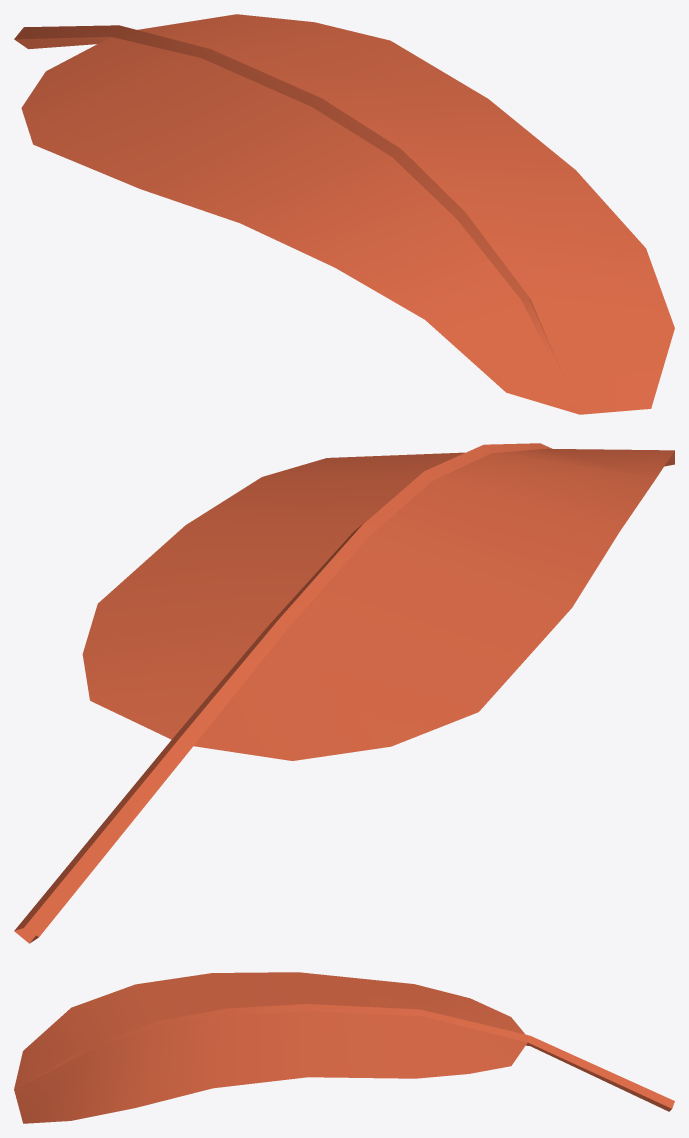
File: MESH_Beach_Props_Leaf003.fbx
3 views of the same model, one above another, from view 1: azimuth 30°, elevation 25°; view 2: azimuth 150°, elevation 25°; view 3: azimuth 270°, elevation 25° (orthographic). The views are drawn at different scales.
Parts seen in each view (by area): view 1: MESH_Beach_Props_Leaf003; view 2: MESH_Beach_Props_Leaf003; view 3: MESH_Beach_Props_Leaf003.
Part boxes in pixels (bbox=[...]): MESH_Beach_Props_Leaf003: bbox=[14, 14, 674, 414]; MESH_Beach_Props_Leaf003: bbox=[14, 443, 674, 943]; MESH_Beach_Props_Leaf003: bbox=[14, 972, 674, 1123].
Size of the model in its own units: 2.02 by 0.9005 by 5.15.
